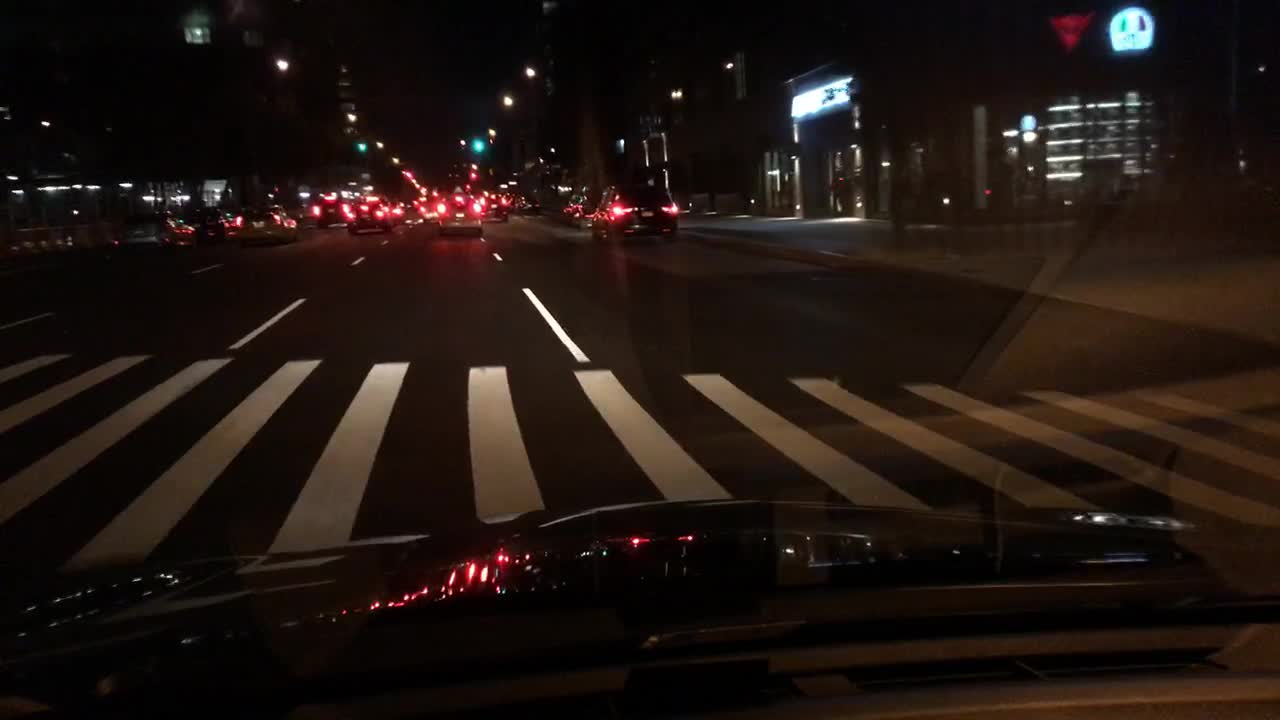car: (589, 185, 682, 242), (119, 212, 197, 251), (231, 202, 296, 245), (436, 193, 486, 236), (345, 196, 394, 235), (191, 208, 236, 244), (561, 188, 598, 230), (314, 191, 348, 230), (472, 188, 504, 221), (508, 187, 541, 217), (294, 194, 318, 223), (415, 197, 438, 227), (387, 200, 403, 227), (499, 187, 516, 212)
person: (826, 167, 850, 216)
traffic light: (354, 137, 370, 155), (980, 185, 993, 202), (471, 137, 484, 152), (402, 167, 415, 179), (466, 169, 481, 179)
